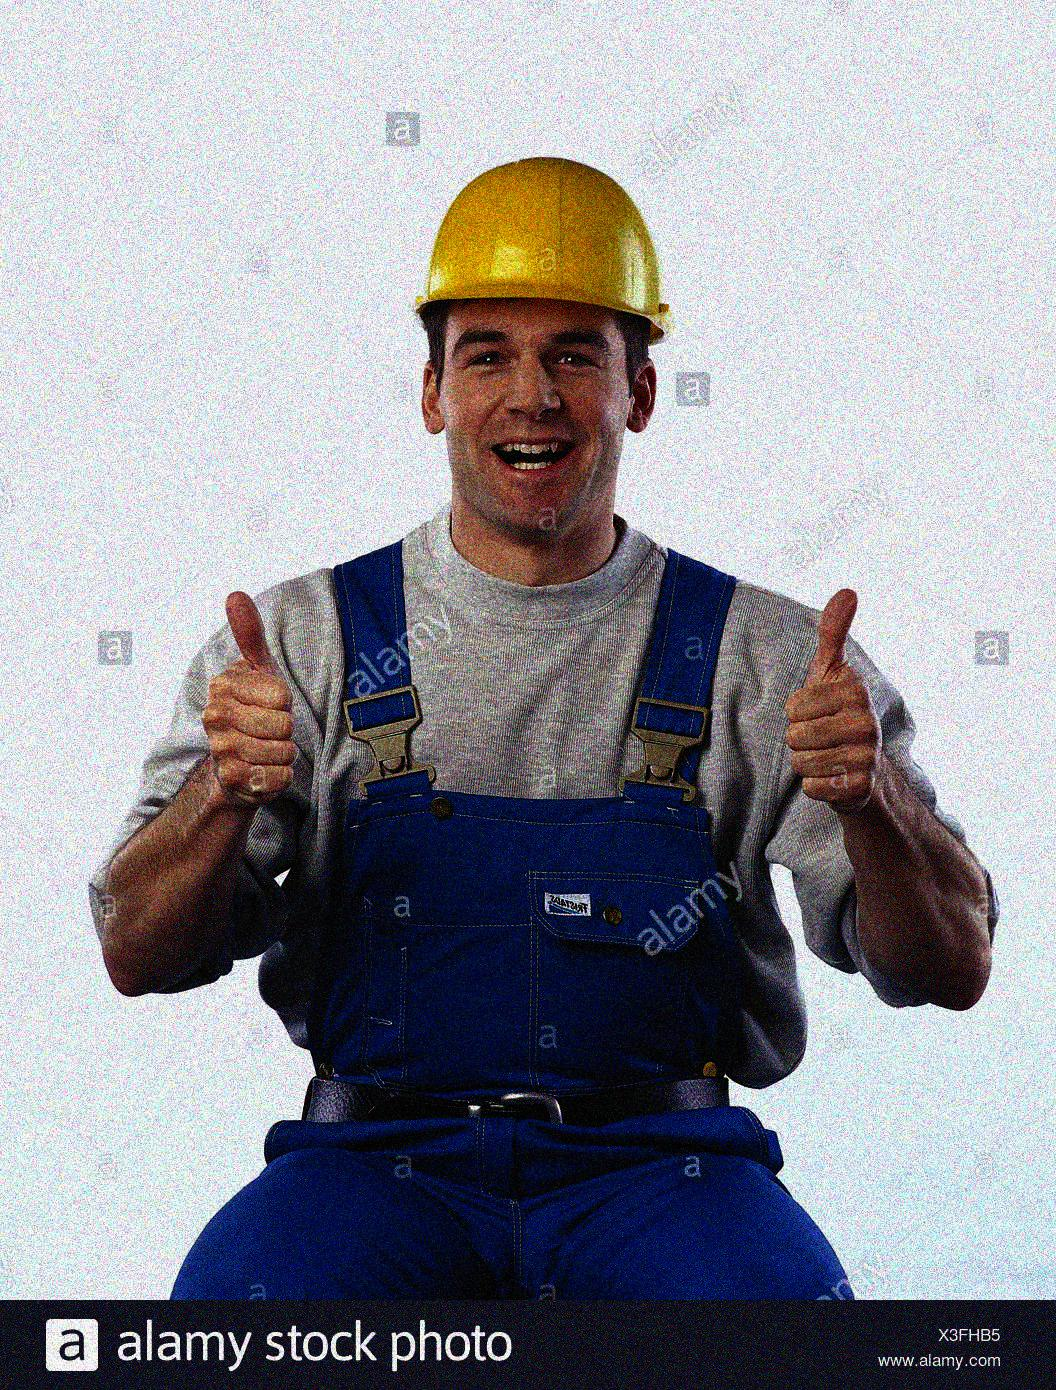helmet: (395, 150, 676, 541)
